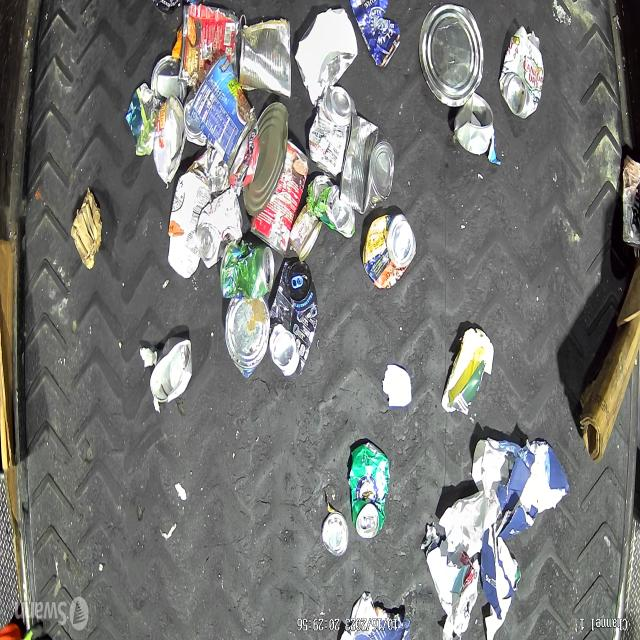can: (190, 53, 258, 168), (418, 1, 485, 108), (248, 138, 308, 254), (268, 261, 318, 377), (338, 112, 394, 215), (242, 102, 288, 215), (178, 5, 239, 86), (238, 17, 291, 100), (498, 25, 544, 119), (308, 86, 356, 176), (362, 213, 416, 289), (349, 442, 390, 540), (196, 187, 244, 269), (224, 298, 270, 378), (350, 0, 401, 70), (221, 240, 276, 300), (149, 338, 193, 408), (307, 174, 355, 238), (154, 94, 186, 185), (453, 91, 494, 152), (288, 204, 322, 261), (150, 54, 186, 104), (621, 154, 640, 247), (184, 89, 206, 147), (322, 512, 348, 556)
